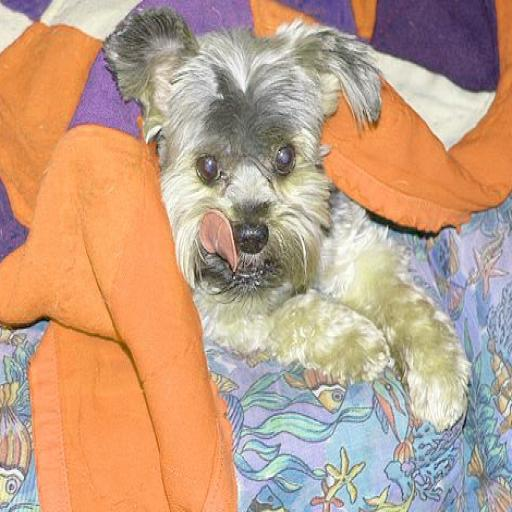dog_face: (108, 10, 383, 290)
